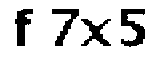5: (117, 4, 151, 50)
7: (48, 4, 81, 50)
f: (11, 4, 37, 49)
x: (80, 16, 112, 48)
